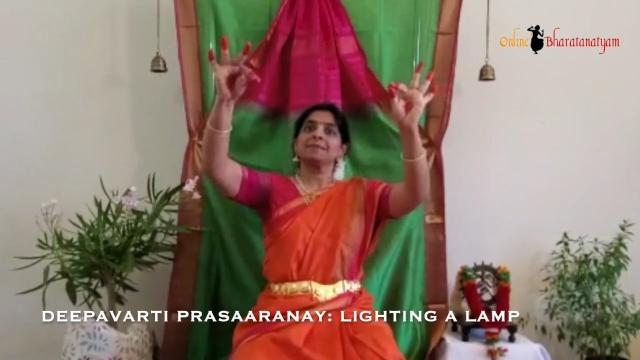hansaasya: (196, 26, 272, 112), (375, 55, 453, 134)
